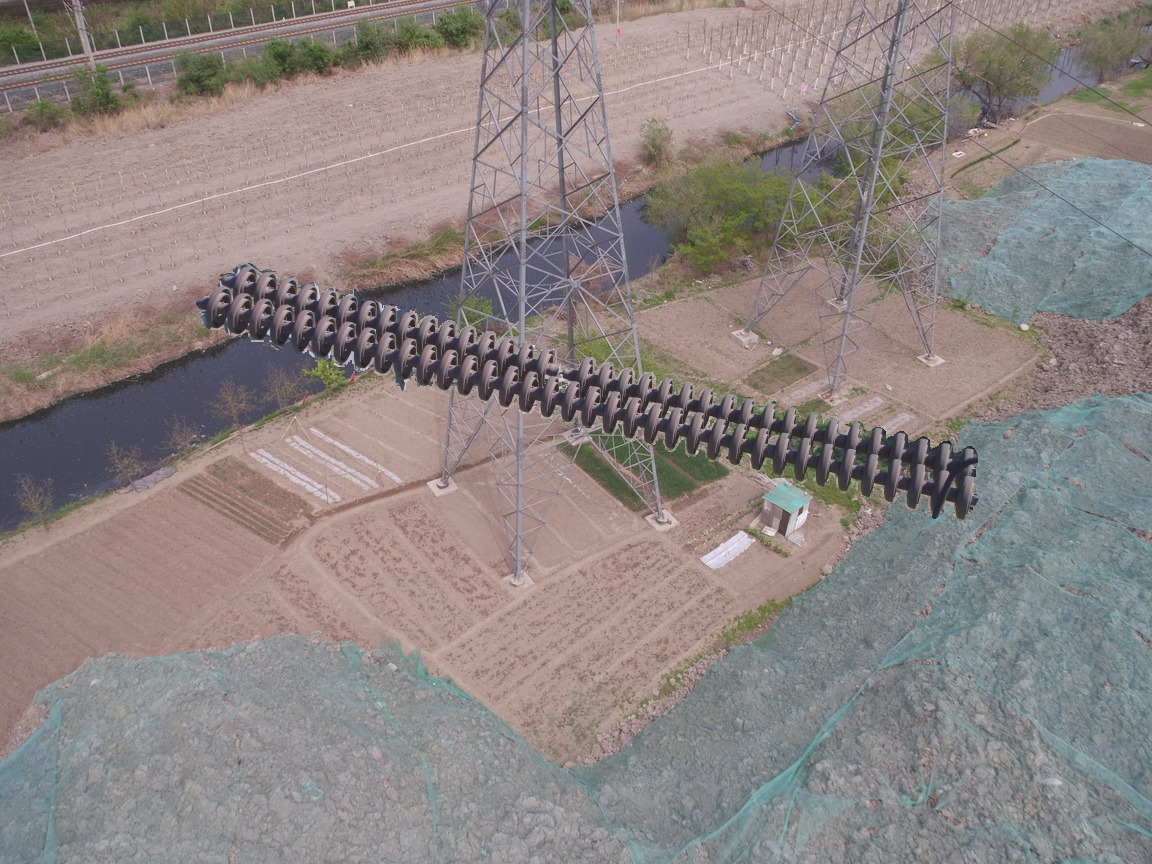defect: (527, 345, 599, 386)
